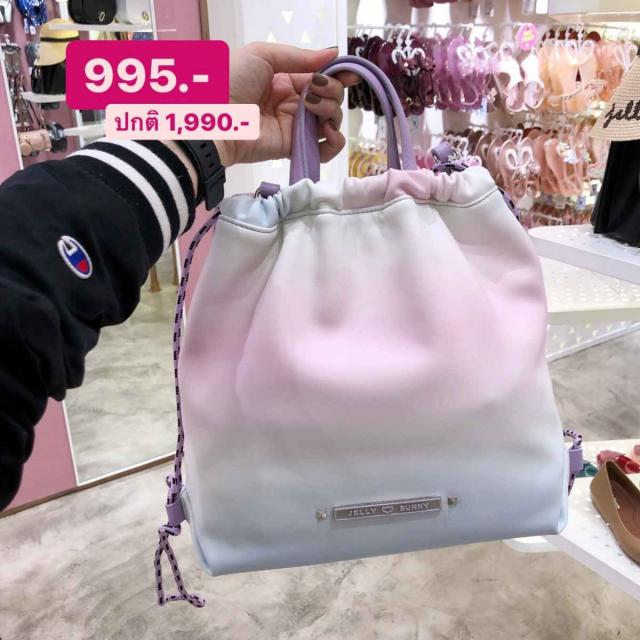Handbag: (174, 158, 566, 564)
